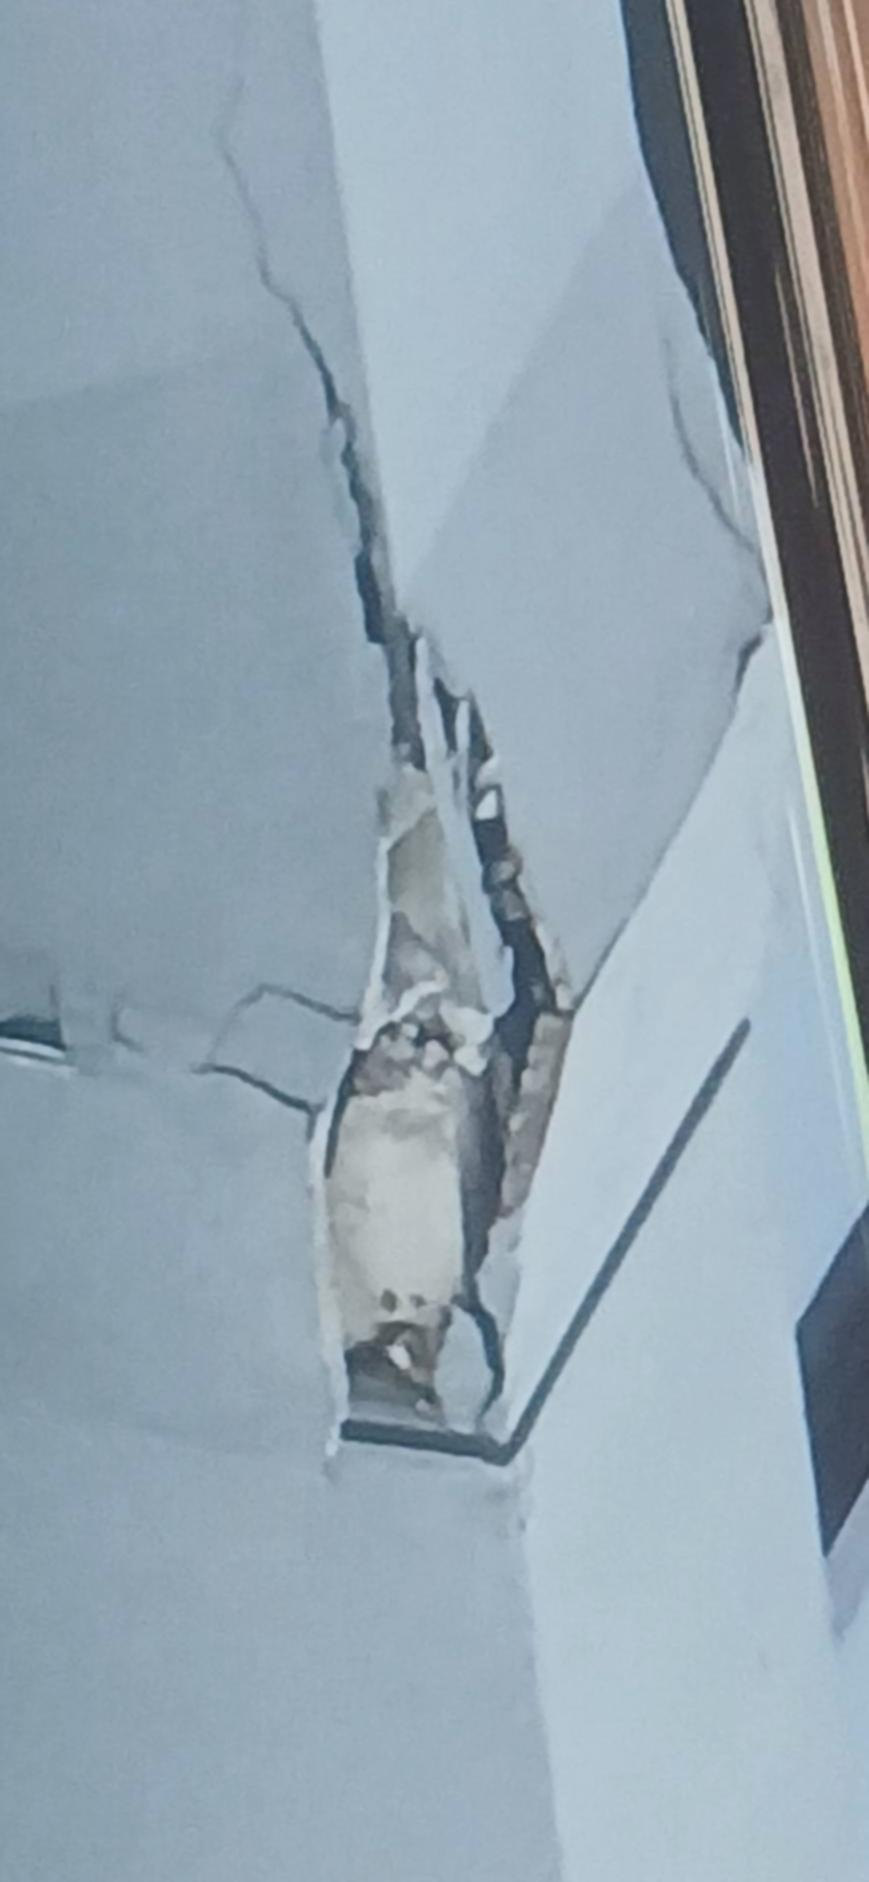High: (1, 4, 797, 1535)
